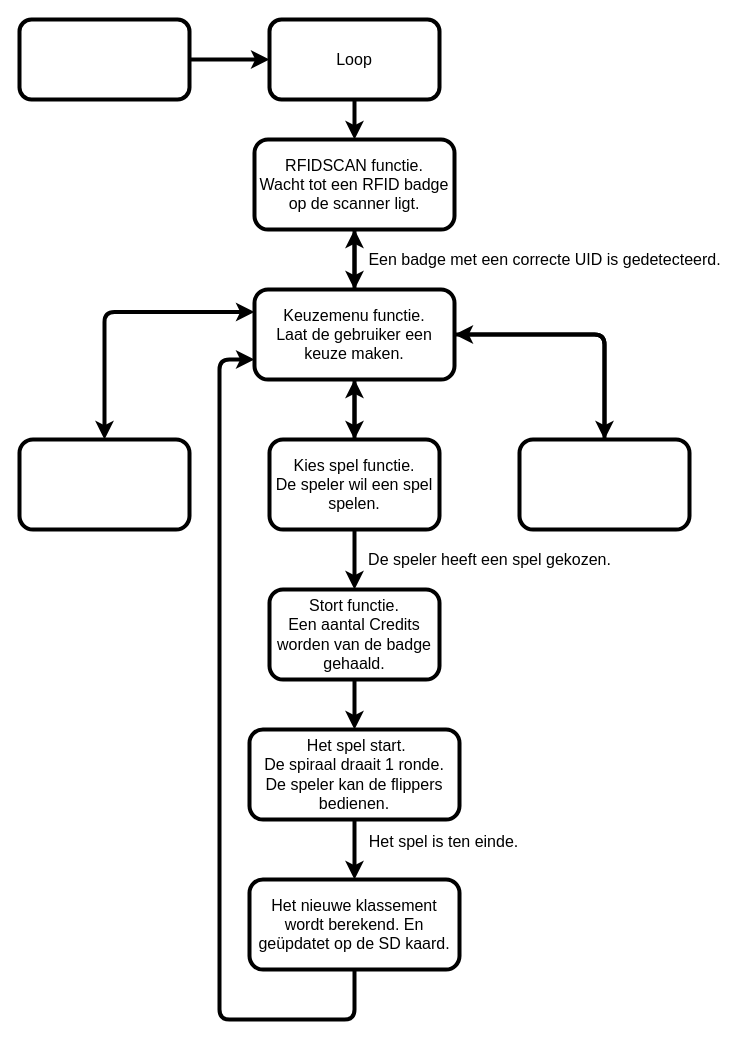
The diagram is 746 pixels wide and 1046 high, and some of its shapes have lost their labels. Here are the shapes that lost their labels. From the top down, the box of each, then its label:
(17, 17, 191, 101): Declaren van alle variabelen
(17, 437, 191, 531): Klassement functie. De speler bekijkt het klassement.
(517, 437, 691, 531): Saldo functie. De speler bekijkt het aantal Credits dat op de RFID badge staat.
